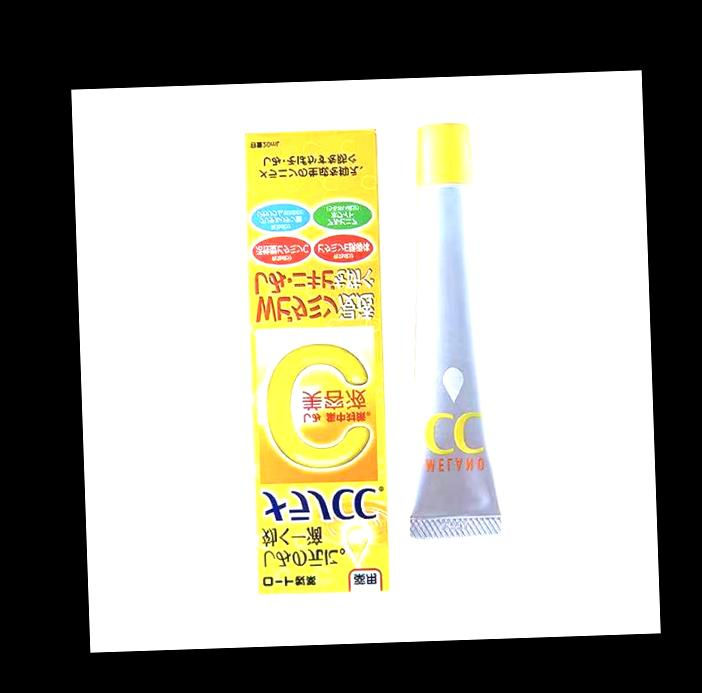cosmetic: (391, 121, 502, 539)
